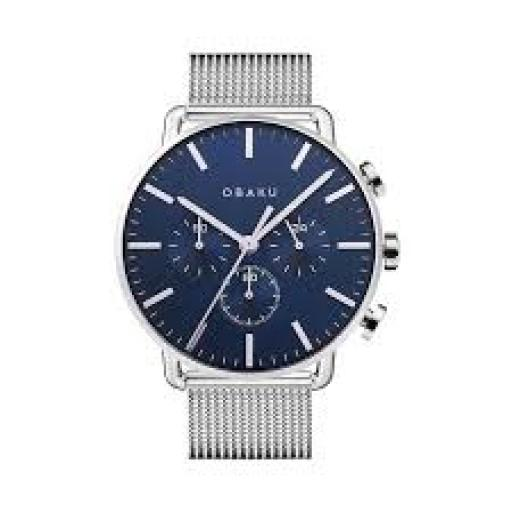KolSaati: (116, 46, 411, 464)
